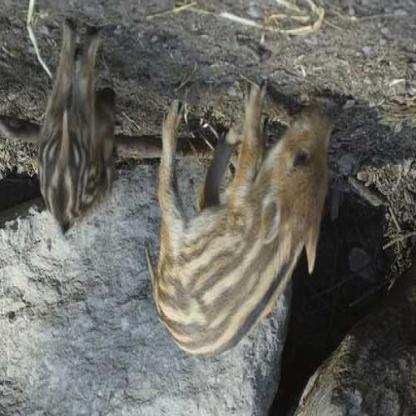boar: (144, 69, 361, 364)
